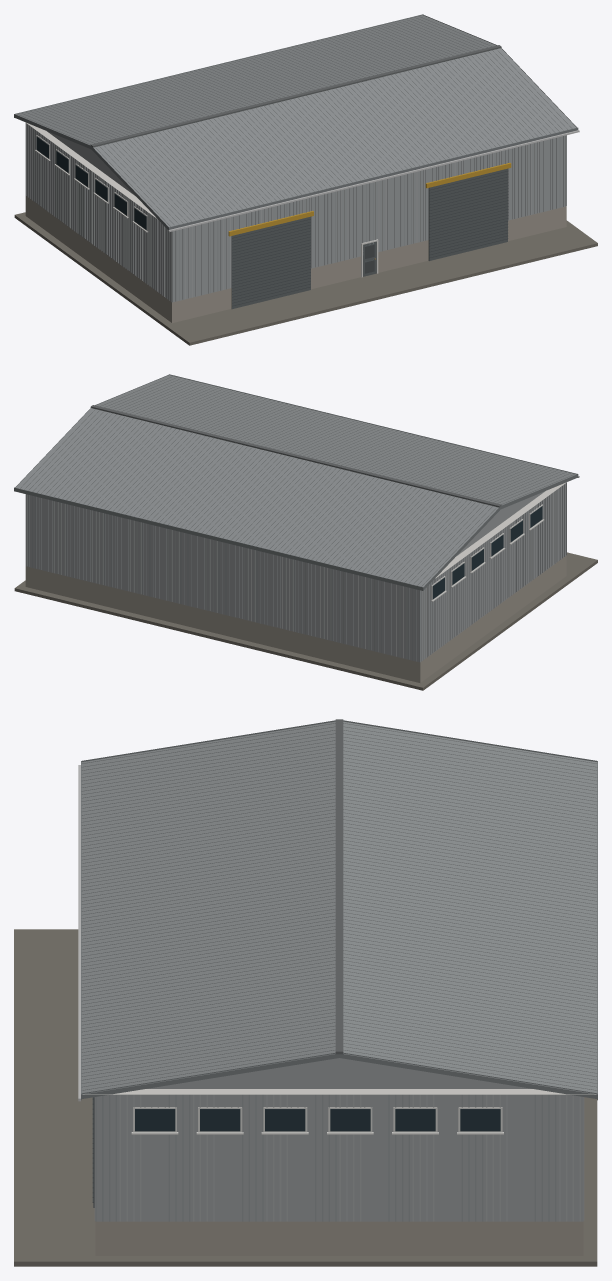
Rendered from ns_warehouse.glb.
The picture shows the model from 3 angles, top to bottom: view 1: azimuth 30°, elevation 25°; view 2: azimuth 150°, elevation 25°; view 3: azimuth 270°, elevation 25°; orthographic projection. The views are drawn at different scales.
Parts seen in each view (by area): view 1: ns_warehouse; view 2: ns_warehouse; view 3: ns_warehouse.
Part boxes in pixels (left/top/right/bottom): ns_warehouse: left=14, top=14, right=597, bottom=345; ns_warehouse: left=14, top=374, right=597, bottom=690; ns_warehouse: left=14, top=719, right=597, bottom=1266.
Bounding box in the file's own units: 29.12 × 8.75 × 21.53.
